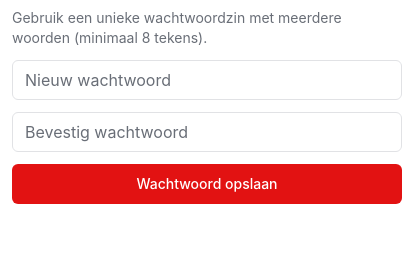
Test: password reset › does not report success when a request throws
Type "fixture-password" into the password field labelled "Nieuw wachtwoord" at (207, 80), box x1=12 y1=60 x2=402 y2=100
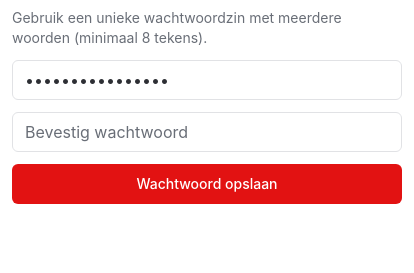
Type "fixture-password" into the password field labelled "Bevestig wachtwoord" at (207, 132), box x1=12 y1=112 x2=402 y2=152
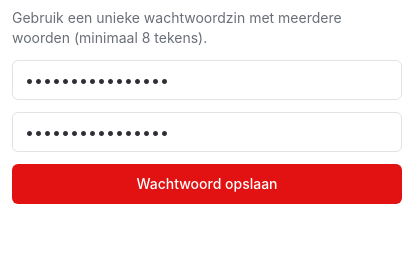
Click the button "Wachtwoord opslaan" at (207, 184), box x1=12 y1=164 x2=402 y2=204
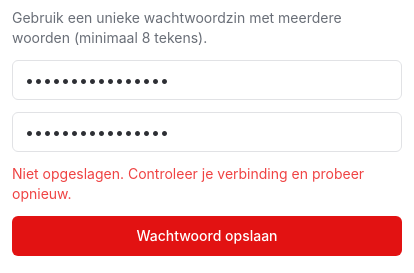
Expected: the button is enabled, x1=12 y1=216 x2=402 y2=256
Expected: the message "Niet opgeslagen. Controleer je verbinding en probeer opnieuw." is shown, x1=12 y1=164 x2=402 y2=204
